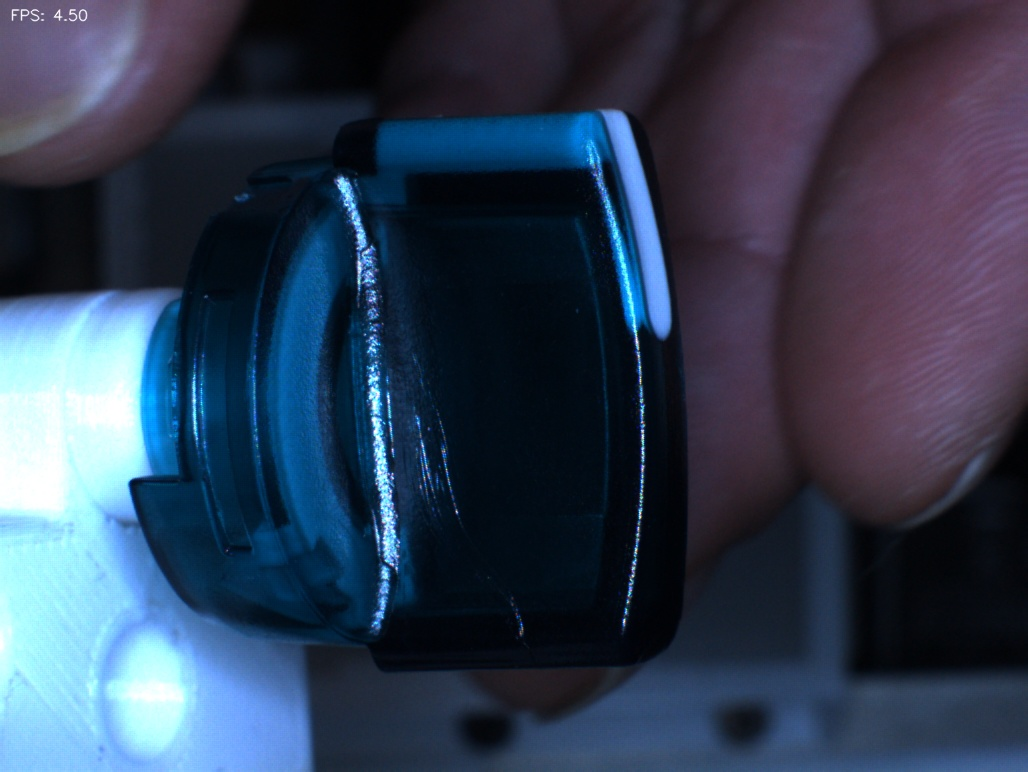Givrage: (396, 362, 540, 651)
